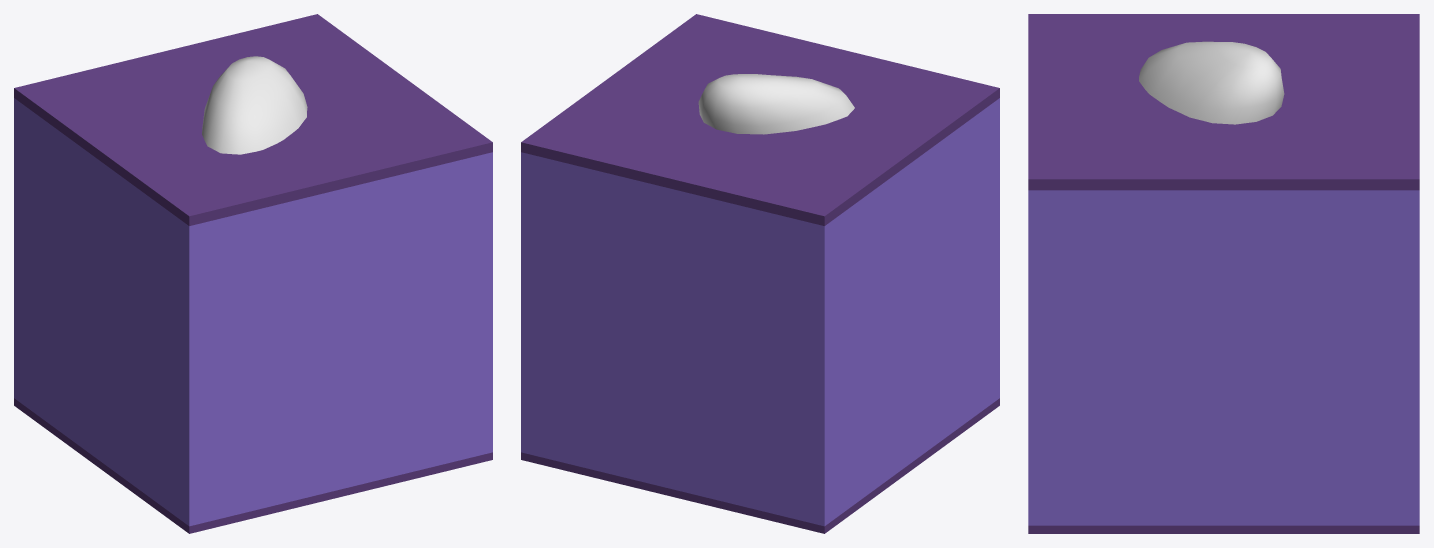
Rendered from cake_purple_1.fbx.
3 renders of one model, left to right at view 1: azimuth 30°, elevation 25°; view 2: azimuth 150°, elevation 25°; view 3: azimuth 270°, elevation 25°, orthographic. The views are drawn at different scales.
Visible parts, largest first — view 1: 立方体.026; view 2: 立方体.026; view 3: 立方体.026.
Part boxes in pixels (<box>): 立方体.026: <box>14,14,492,533</box>; 立方体.026: <box>521,14,999,533</box>; 立方体.026: <box>1028,14,1419,533</box>.
Size of the model in its own units: 14.59 by 16.6 by 14.59.
